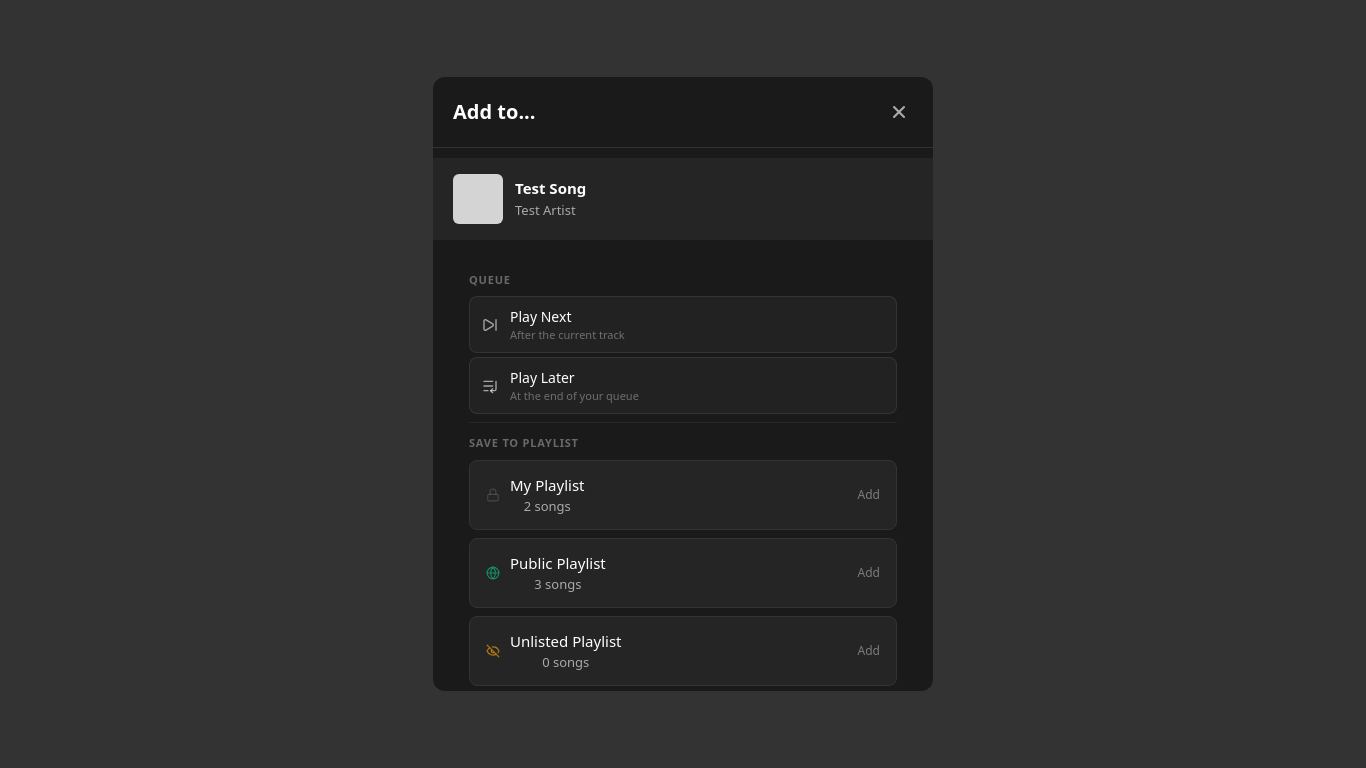
Test case: PlaylistWizard — add to playlist › adds the selected track to a personal playlist
Click the text "My Playlist" at (547, 485), box [510,475,584,495]
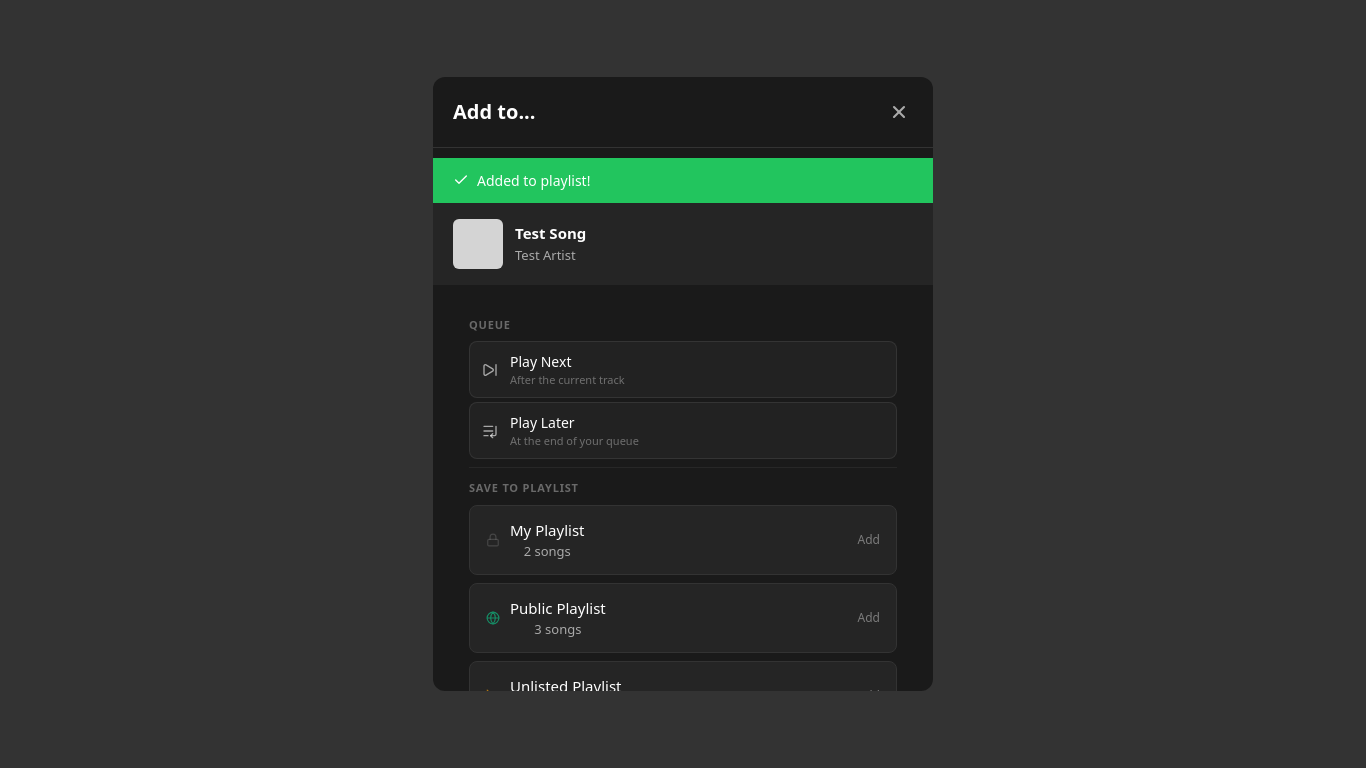
Expected: the text "Added to playlist!" is shown, [433,158,933,203]
